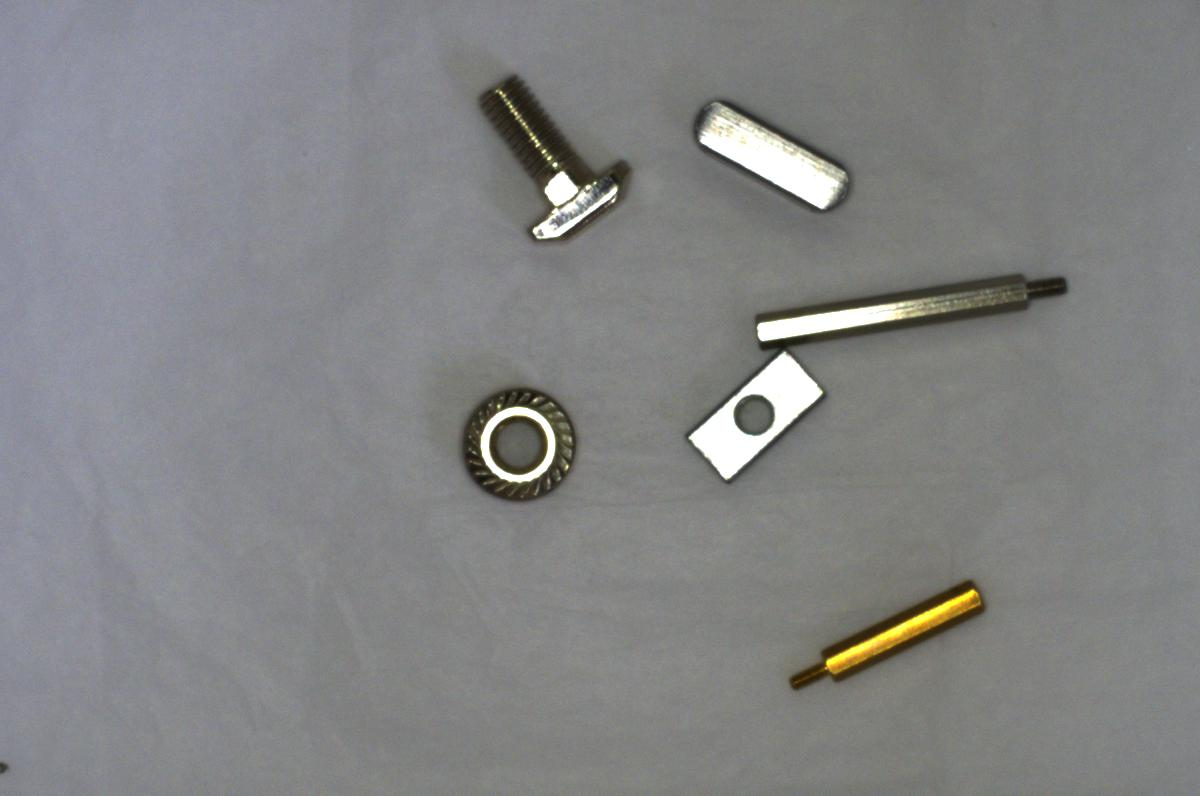Flange nut: (444, 373, 595, 515)
Hexagon pillar: (774, 567, 997, 700)
Hexagonal steel column: (747, 255, 1075, 347)
Keybar: (685, 94, 855, 213)
Rectangular nut: (679, 346, 828, 483)
T-shaped screw: (479, 72, 627, 250)
